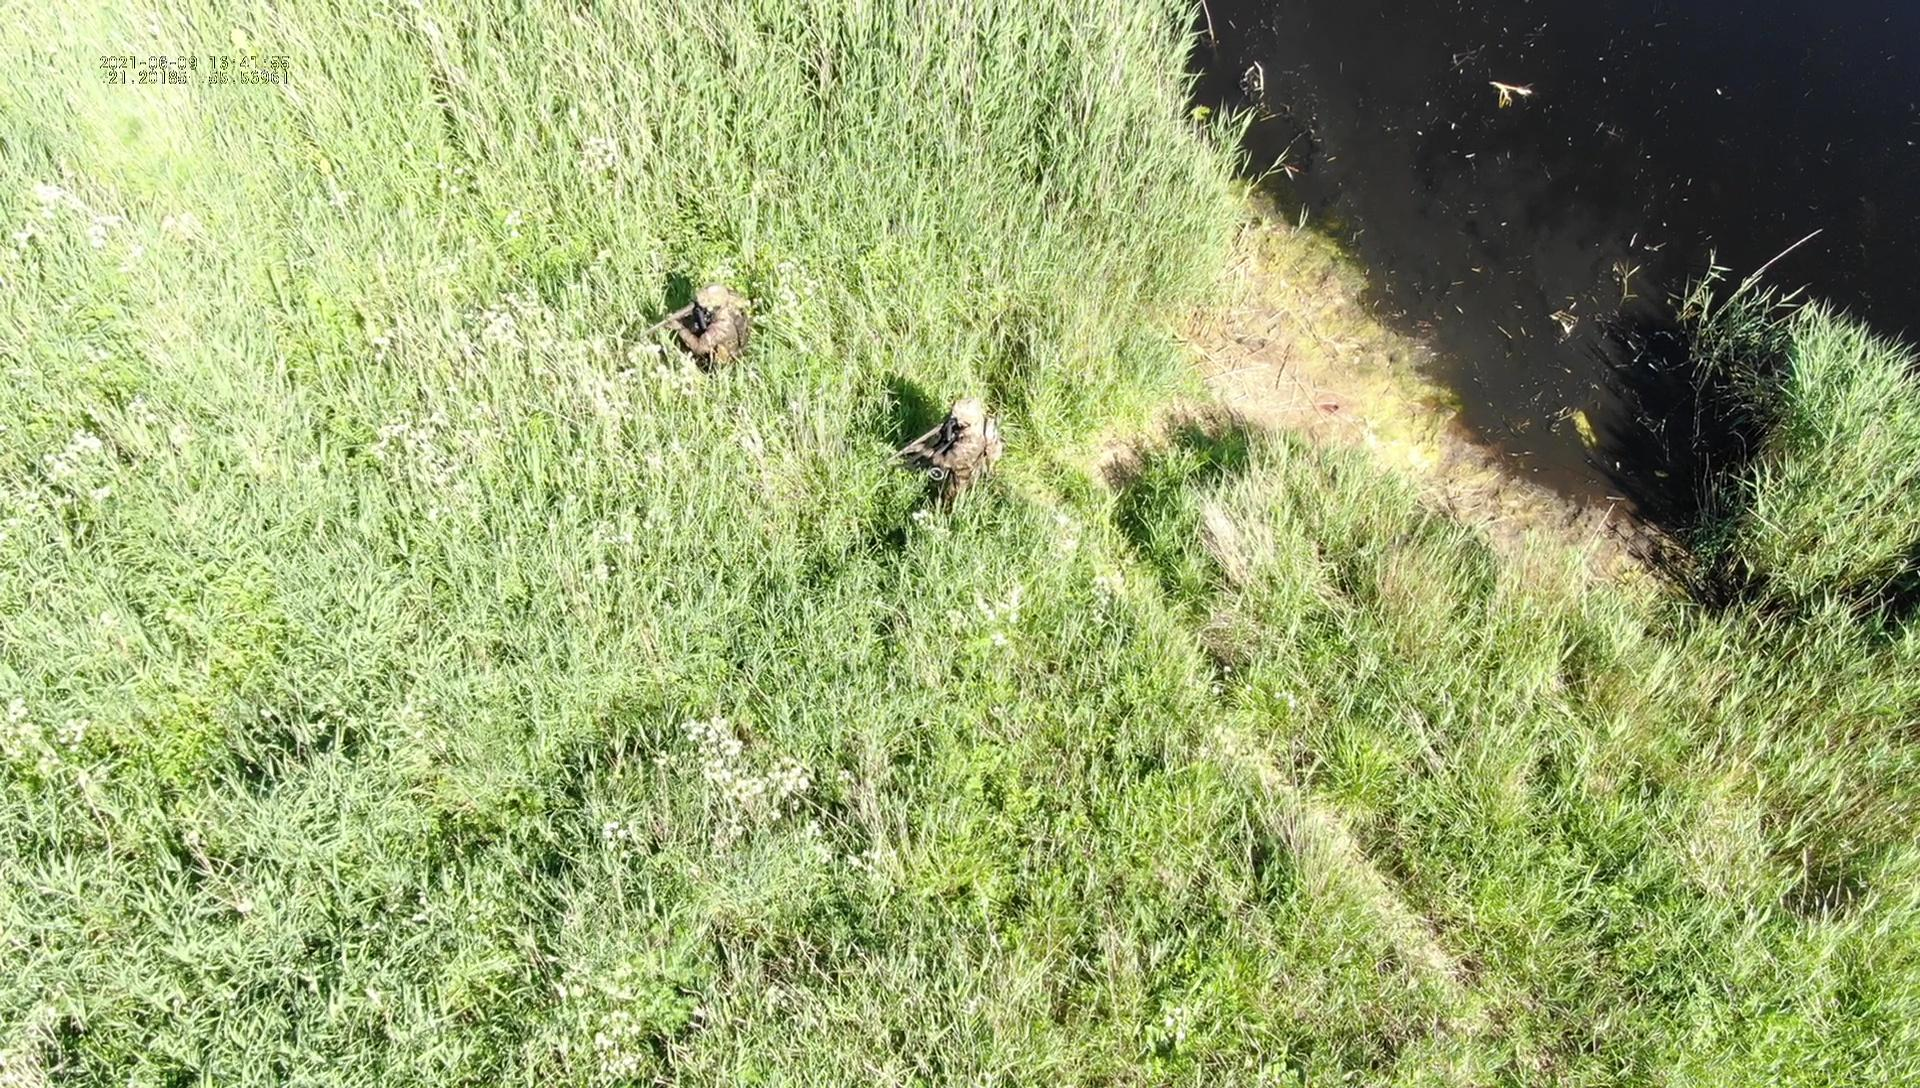Soldier: (880, 398, 1004, 499), (640, 284, 754, 371)
